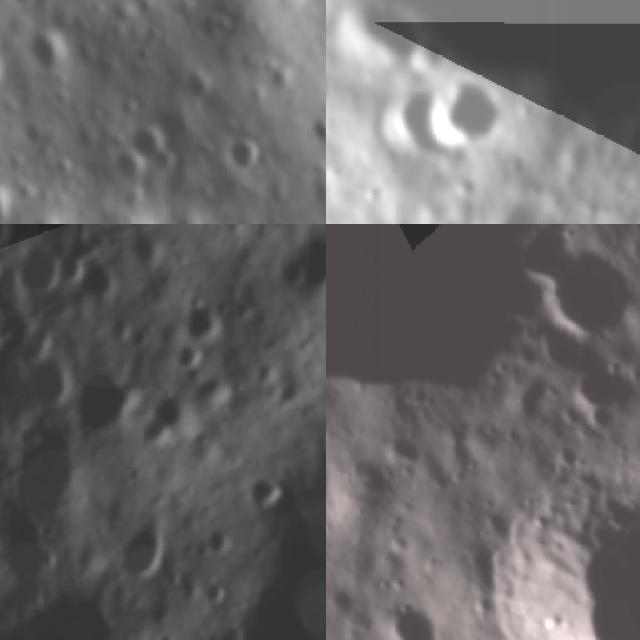crater: (326, 224, 591, 406), (480, 483, 640, 640), (537, 249, 640, 337), (9, 419, 92, 519), (68, 362, 150, 431), (434, 77, 505, 146), (3, 501, 58, 586), (341, 0, 415, 61), (518, 315, 594, 374), (118, 516, 174, 591), (562, 355, 636, 411), (384, 83, 441, 155), (138, 398, 206, 458), (511, 224, 577, 284), (25, 352, 87, 407), (128, 120, 182, 176), (373, 597, 440, 640), (289, 224, 326, 299), (23, 30, 75, 82), (17, 245, 65, 301), (79, 257, 126, 309), (186, 299, 233, 345), (222, 132, 268, 177), (245, 475, 293, 517), (381, 430, 433, 464), (204, 521, 244, 565), (168, 340, 210, 380), (198, 577, 240, 613), (449, 170, 476, 213), (311, 37, 326, 106), (427, 471, 455, 495), (505, 157, 525, 189), (0, 224, 21, 253), (0, 249, 13, 292), (0, 182, 11, 224), (431, 211, 460, 224), (154, 629, 186, 640)
